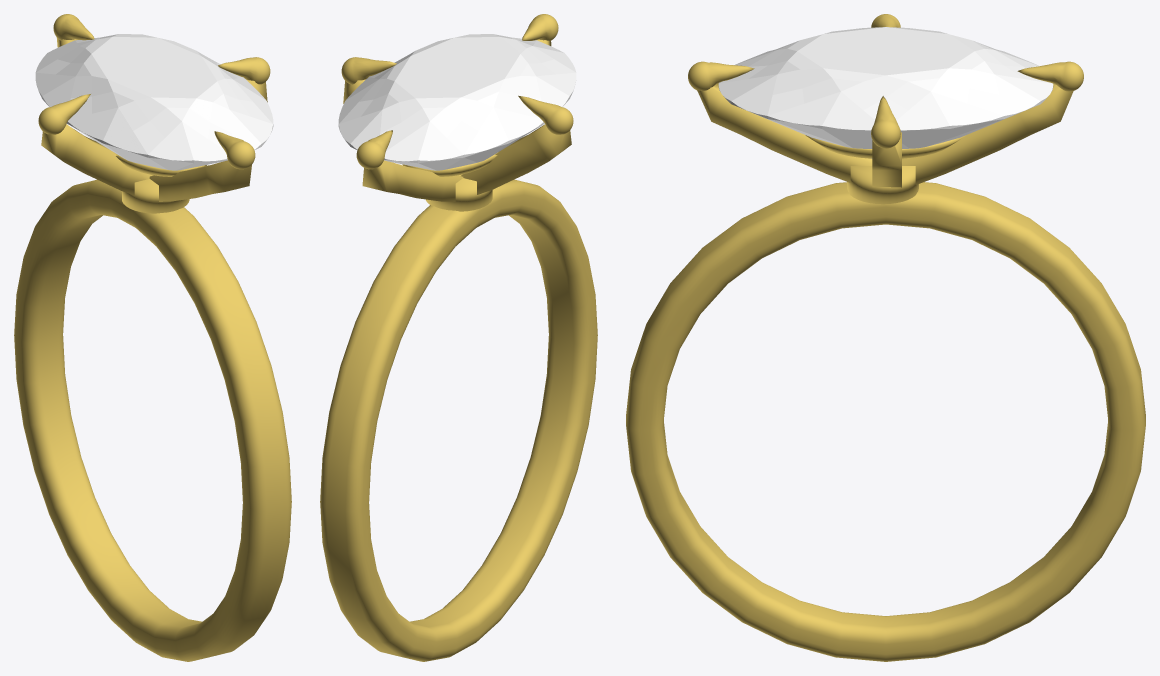
The picture shows the model from 3 angles, left to right: view 1: azimuth 30°, elevation 25°; view 2: azimuth 150°, elevation 25°; view 3: azimuth 270°, elevation 25°; orthographic projection. The views are drawn at different scales.
Visible parts, largest first — view 1: Circle.001, dobj, Cube.002, Cube.001, Cylinder, Cube.003, Cube, Circle; view 2: Circle.001, dobj, Cube.002, Cube, Cylinder, Cube.003, Cube.001, Circle; view 3: Circle.001, dobj, Cube, Cube.001, Cube.003, Cylinder, Circle.
Boxes of the visible parts, x1=… form: Circle.001: x1=14, y1=179, x2=291, y2=661; dobj: x1=35, y1=34, x2=273, y2=170; Cube.002: x1=38, y1=94, x2=150, y2=195; Cube.001: x1=149, y1=131, x2=255, y2=201; Cylinder: x1=122, y1=174, x2=189, y2=213; Cube.003: x1=205, y1=57, x2=270, y2=165; Cube: x1=53, y1=14, x2=94, y2=47; Circle: x1=114, y1=152, x2=205, y2=176; Circle.001: x1=320, y1=179, x2=597, y2=661; dobj: x1=338, y1=34, x2=576, y2=170; Cube.002: x1=461, y1=95, x2=573, y2=194; Cube: x1=356, y1=130, x2=463, y2=201; Cylinder: x1=425, y1=174, x2=492, y2=211; Cube.003: x1=341, y1=57, x2=406, y2=165; Cube.001: x1=522, y1=14, x2=558, y2=45; Circle: x1=406, y1=152, x2=497, y2=176; Circle.001: x1=626, y1=182, x2=1145, y2=661; dobj: x1=718, y1=27, x2=1053, y2=158; Cube: x1=902, y1=61, x2=1083, y2=184; Cube.001: x1=688, y1=61, x2=872, y2=182; Cube.003: x1=871, y1=96, x2=901, y2=187; Cylinder: x1=847, y1=166, x2=918, y2=204; Circle: x1=805, y1=135, x2=966, y2=158.
Size of the model in its own units: 2.82 by 6.77 by 5.27.
